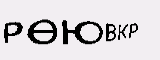В: (103, 20, 116, 44)
К: (117, 20, 129, 44)
Р: (2, 21, 23, 45), (129, 18, 141, 40)
Ю: (59, 16, 102, 46)
Ө: (27, 16, 57, 46)
